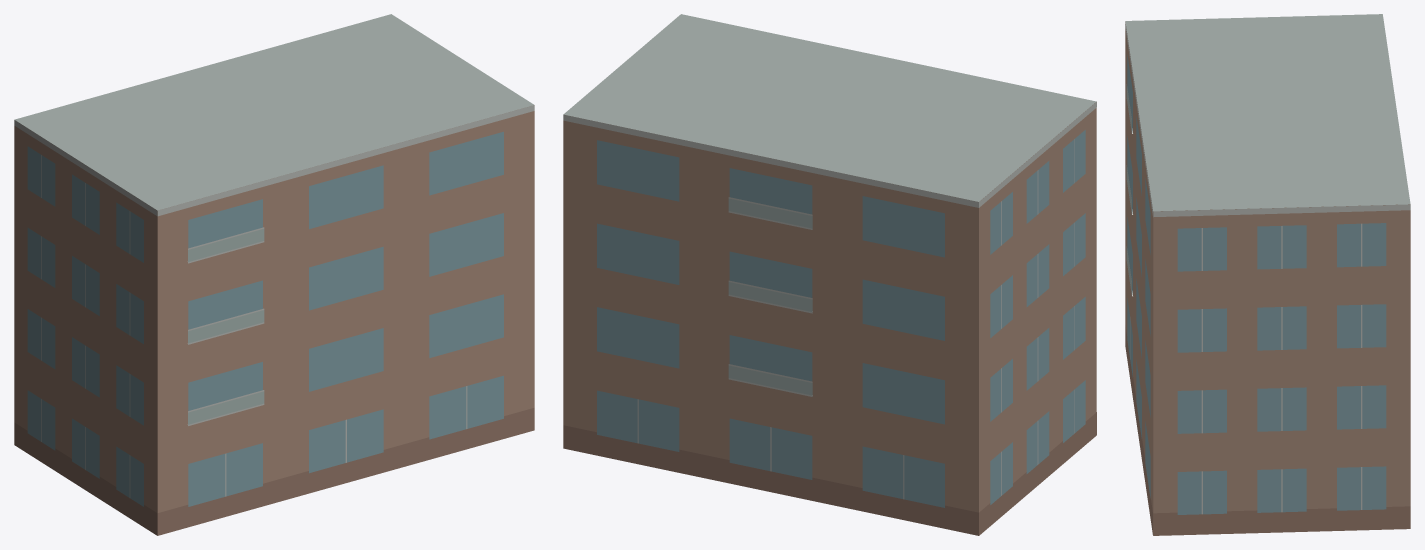
The model's file is survey-upis-32757091.glb.
The picture shows the model from 3 angles, left to right: view 1: azimuth 30°, elevation 25°; view 2: azimuth 150°, elevation 25°; view 3: azimuth 270°, elevation 25°; orthographic projection. The views are drawn at different scales.
Parts seen in each view (by area): view 1: survey-upis-32757091.tmp; view 2: survey-upis-32757091.tmp; view 3: survey-upis-32757091.tmp.
Boxes of the visible parts, left/top/right/bottom form: survey-upis-32757091.tmp: left=14, top=14, right=534, bottom=535; survey-upis-32757091.tmp: left=563, top=14, right=1096, bottom=535; survey-upis-32757091.tmp: left=1125, top=14, right=1410, bottom=535.
Size of the model in its own units: 17.68 by 13.55 by 10.8.
